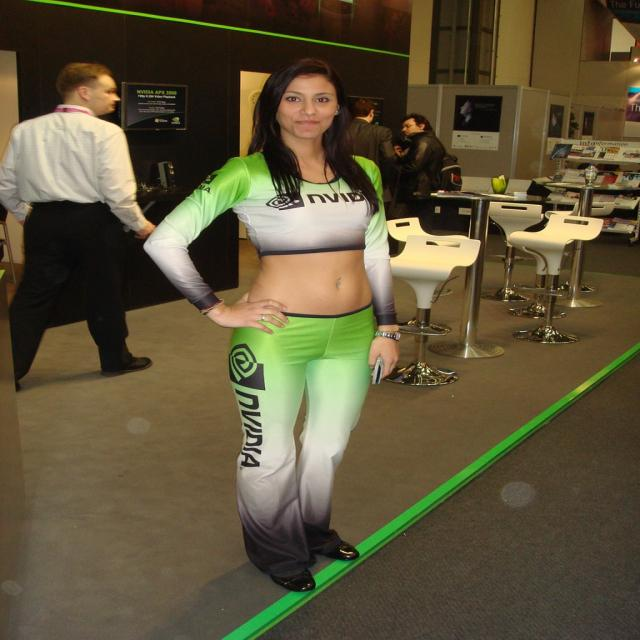nvidia: (227, 344, 268, 393), (268, 193, 305, 212)
